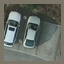car: (23, 17, 40, 47)
